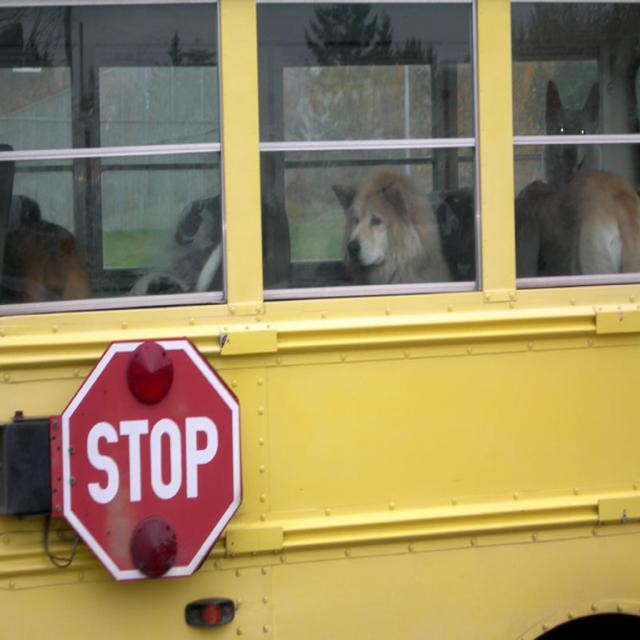Stop-sign: (62, 334, 244, 580)
